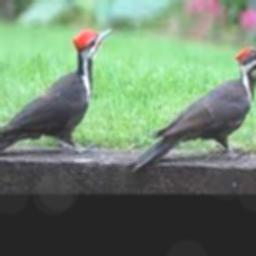Woodpecker: (128, 45, 256, 170), (0, 27, 114, 155)
